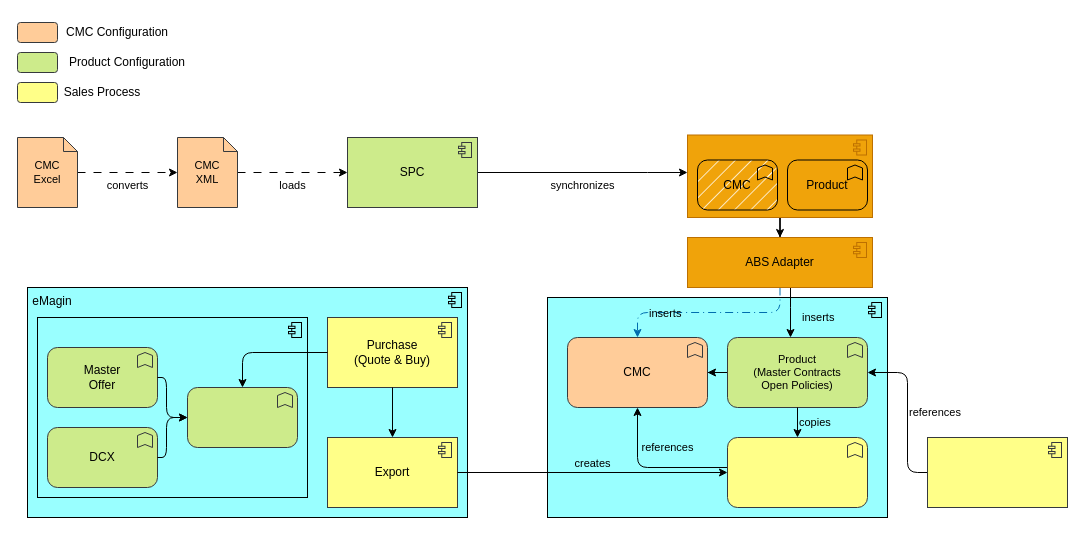
Image size: 1085x535. Some labels were removed from this diagram. The shapes that lost their labels are listed below. From the top down, each one's box as (x1, y1, x2, y2) in pixels, then its label:
(686, 134, 872, 218): Product Domain
(36, 316, 308, 498): eQS
(186, 386, 298, 448): Offer
(546, 296, 888, 518): ABS
(726, 436, 868, 508): Individual Contract
(926, 436, 1068, 508): BIOS
